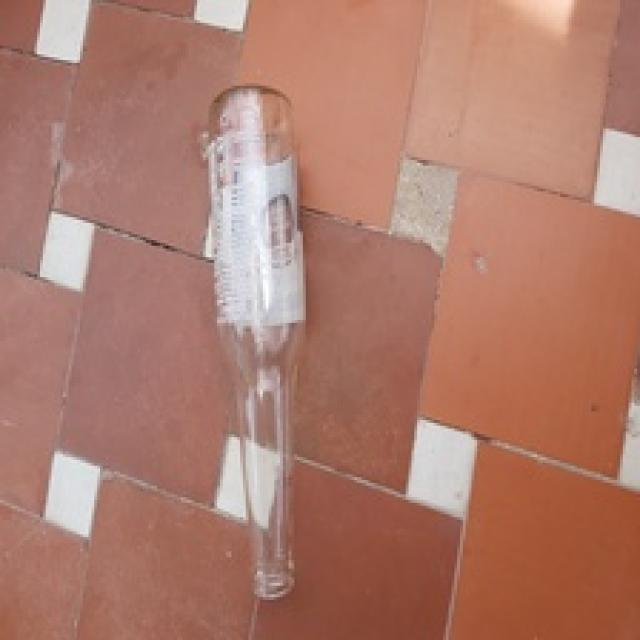Glass: (197, 83, 305, 600)
